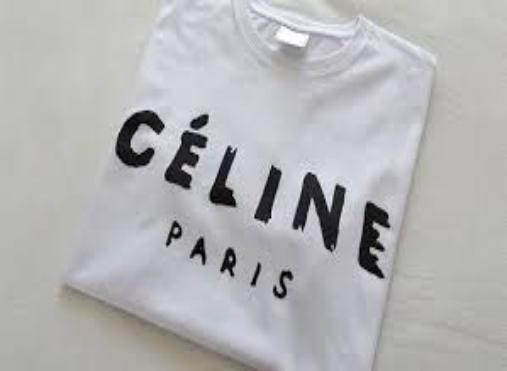CELINE: (115, 97, 396, 287)
